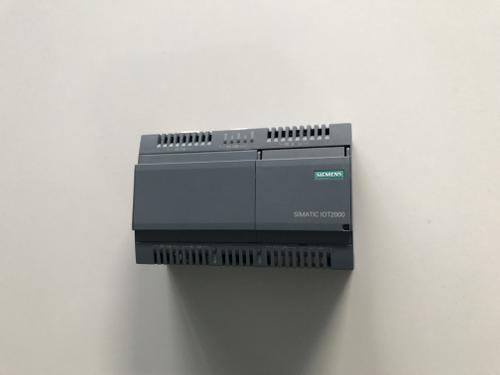device: (132, 124, 355, 270)
